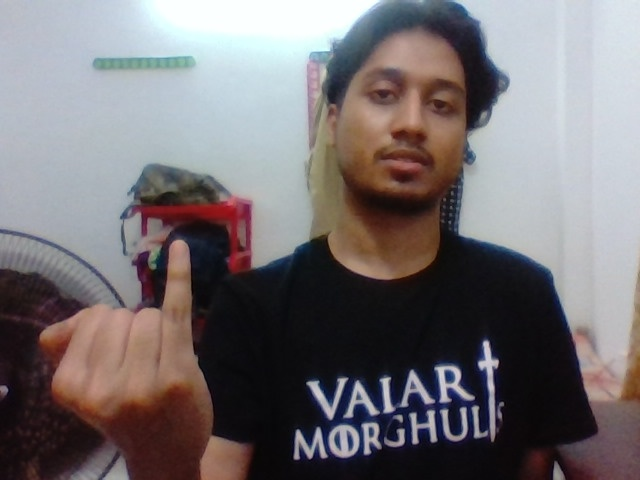I: (70, 242, 221, 448)
